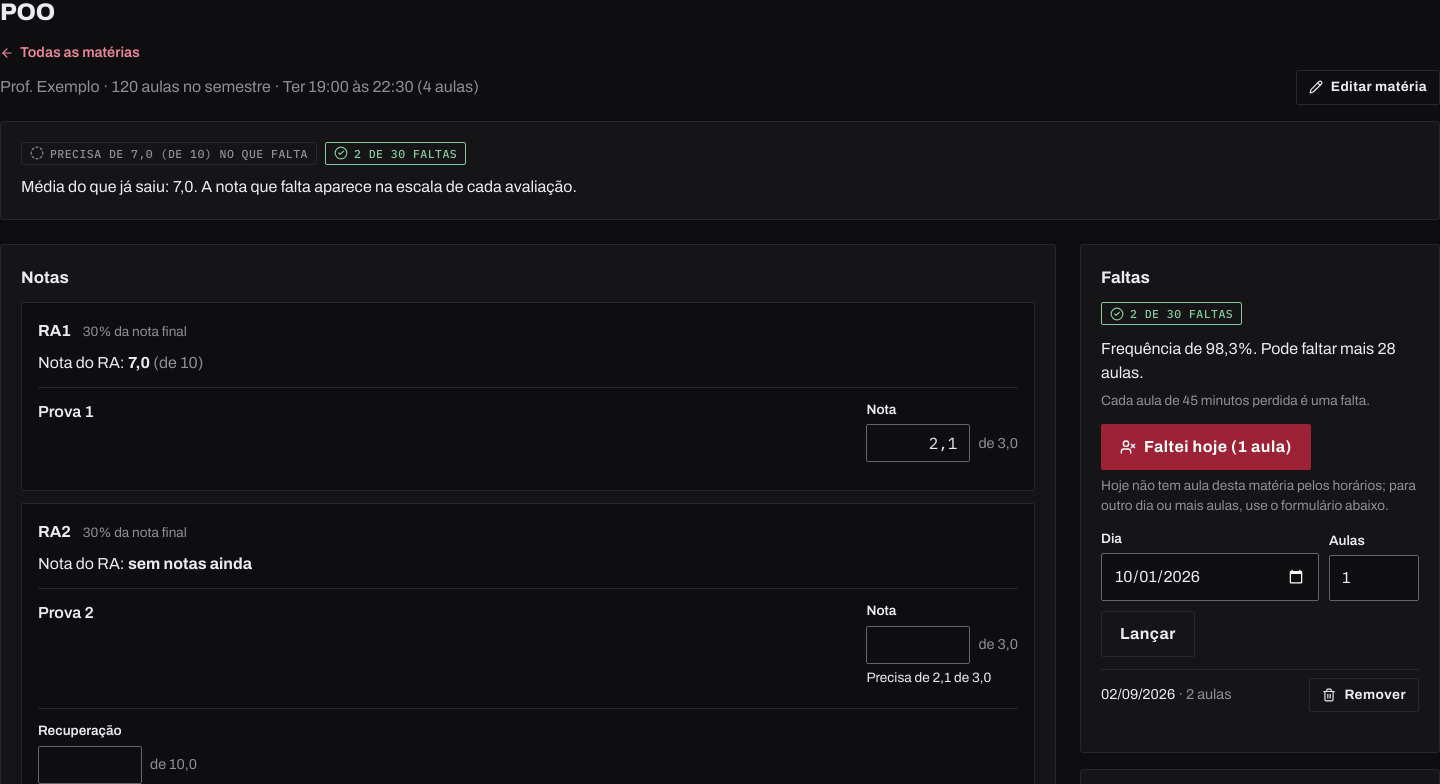
Test: TelaMateria › salva a nota ao apertar Enter e recalcula a situação
In the field named "Nota de Prova 2": (918, 645) [866, 626, 970, 664], type "3"
Then press Enter
(page scrolled)
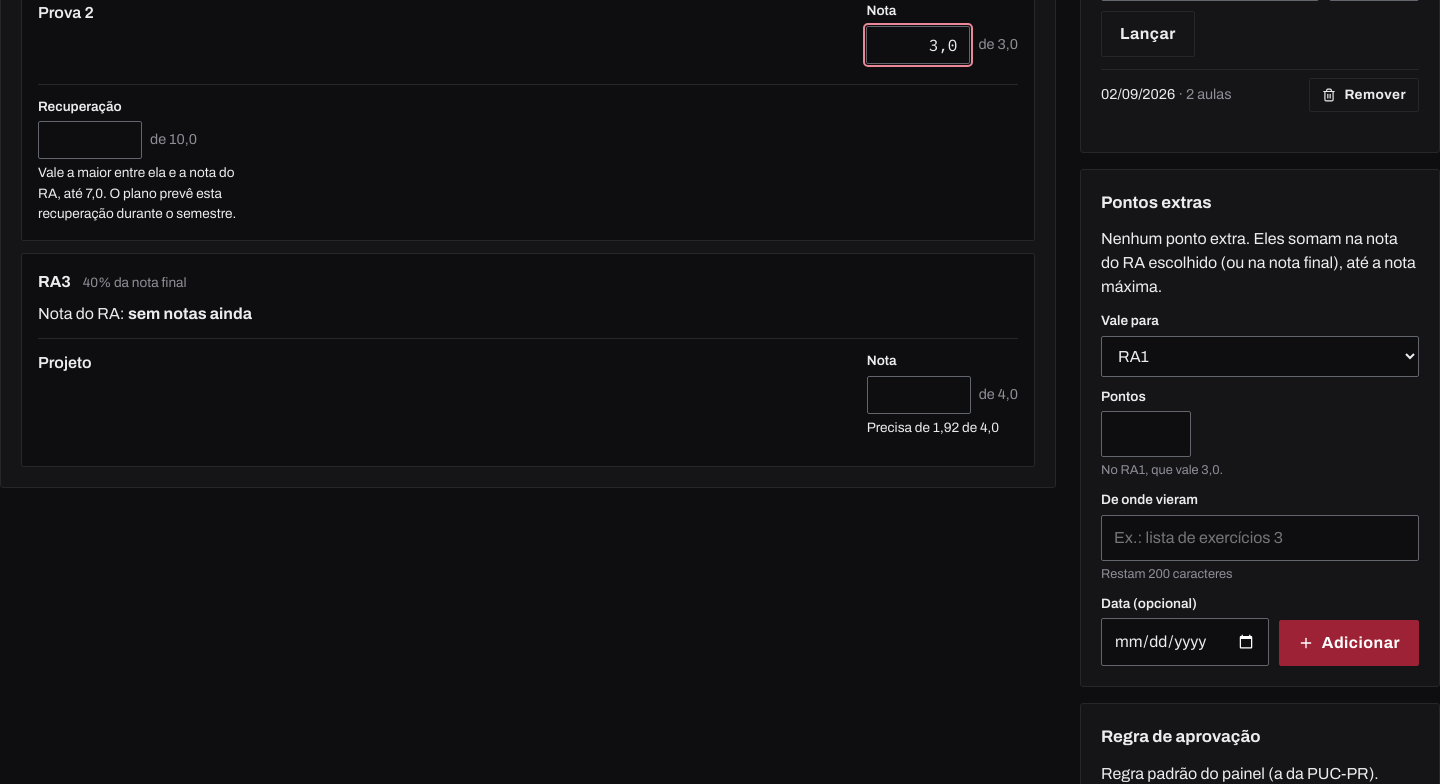
Expected: the field named "Nota de Prova 2" holds "3,0", [866, 26, 970, 64]
Expected: the text "Precisa de 1,92 de 4,0" is shown, [867, 418, 1018, 438]
